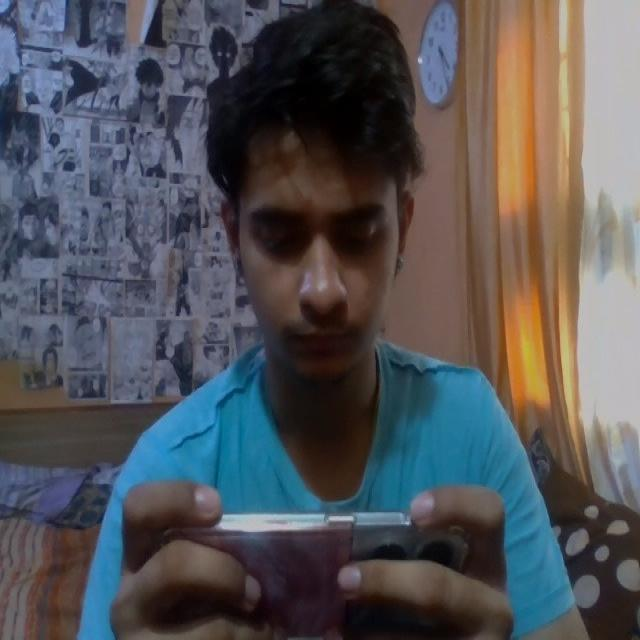phone: (152, 520, 466, 640)
using-phone: (76, 26, 594, 640)
